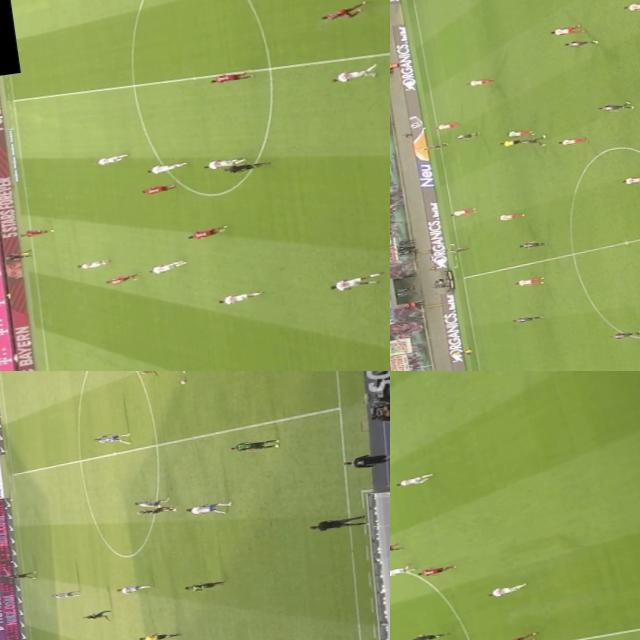ball: (174, 378, 188, 386)
player: (328, 270, 386, 292), (318, 1, 371, 23), (331, 64, 379, 86), (225, 438, 281, 456), (201, 154, 248, 172), (483, 580, 530, 598), (220, 290, 264, 308), (183, 502, 230, 518), (208, 70, 252, 86), (187, 224, 228, 241), (76, 609, 114, 626), (148, 258, 187, 274), (91, 430, 133, 444), (414, 564, 456, 578), (148, 161, 187, 176), (105, 272, 140, 288), (182, 578, 219, 593), (132, 496, 166, 512), (76, 256, 112, 271), (92, 152, 130, 166), (141, 182, 176, 197), (562, 37, 602, 50), (596, 101, 634, 114), (546, 23, 584, 36), (138, 505, 175, 518), (114, 583, 154, 595), (514, 276, 548, 289), (607, 329, 640, 342), (516, 135, 546, 149), (21, 226, 54, 238), (396, 474, 429, 486), (510, 314, 542, 326), (556, 135, 586, 147), (494, 632, 539, 640), (449, 206, 478, 218), (390, 563, 413, 578), (6, 570, 34, 582), (516, 239, 546, 250), (443, 244, 470, 256), (502, 129, 533, 139), (619, 0, 640, 14), (619, 174, 640, 188), (496, 212, 524, 222), (452, 131, 480, 141), (466, 78, 494, 88), (433, 121, 460, 131), (51, 590, 77, 600), (424, 142, 446, 151), (142, 371, 179, 375), (390, 544, 403, 555)
